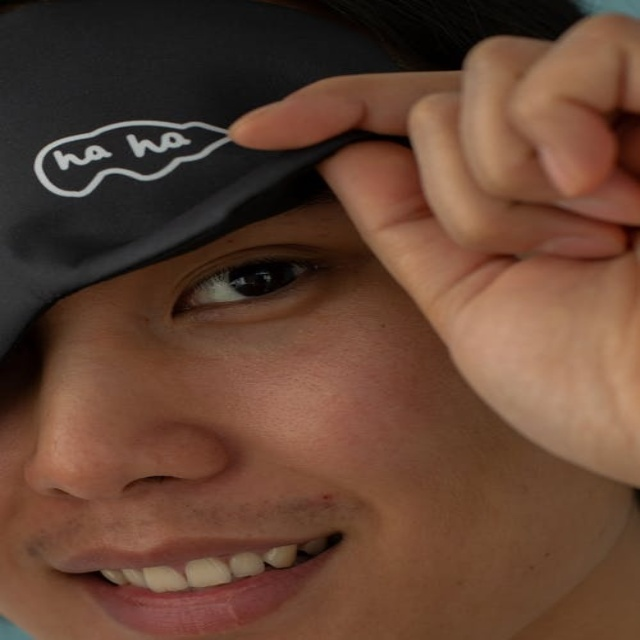Sin_gafas: (172, 250, 333, 316)
Sin_guantes: (225, 10, 639, 492)
Sin_mascara: (38, 524, 347, 640)
